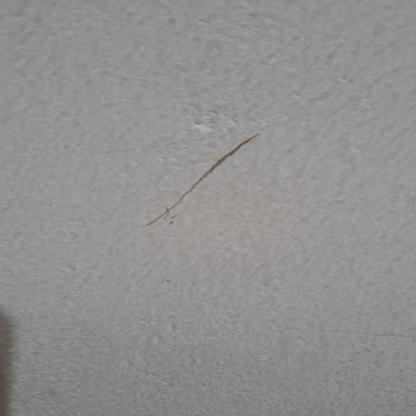spot: (102, 120, 291, 238)
